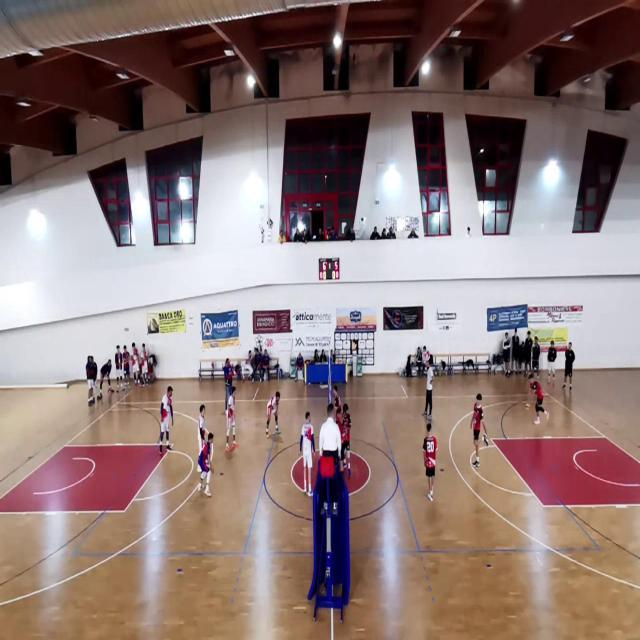volleyball: (524, 403, 530, 409)
